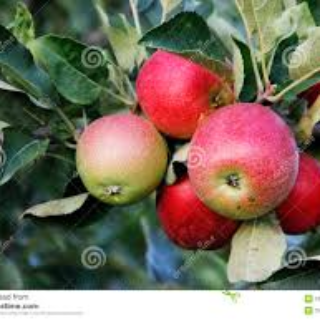tao: (185, 100, 303, 223), (73, 111, 170, 208)
